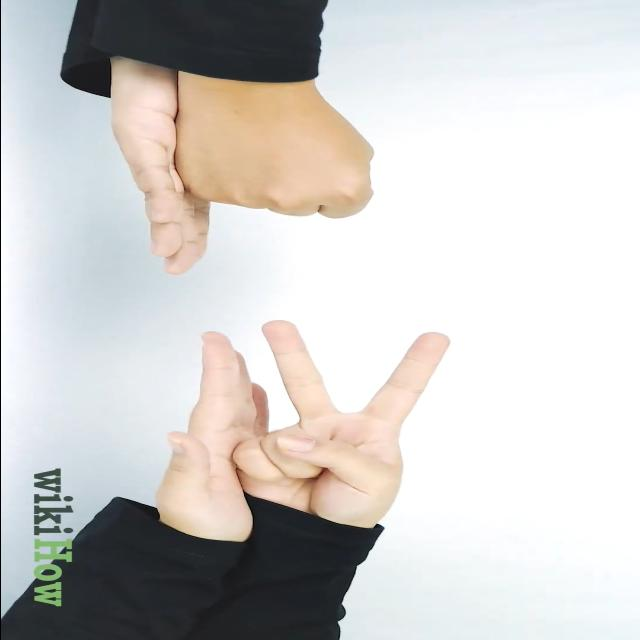Rock: (179, 90, 379, 222)
Scissors: (231, 318, 452, 522)
